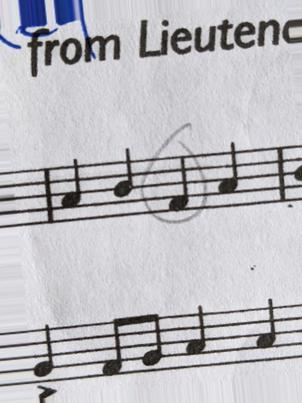note: (165, 144, 198, 218), (53, 156, 88, 225), (108, 144, 139, 220), (180, 304, 215, 371), (213, 142, 247, 209), (29, 323, 62, 386), (252, 296, 282, 360)
